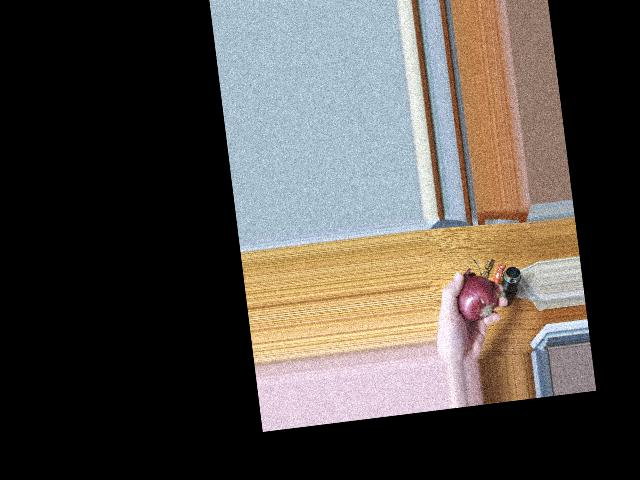onion: (459, 275, 495, 312)
